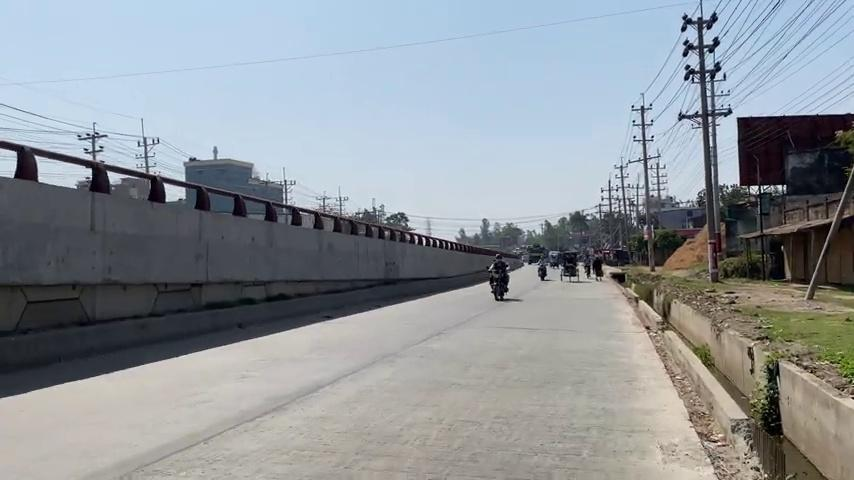Curb: (485, 265, 510, 301), (537, 263, 546, 280)
Fallen-tree: (0, 138, 429, 371)
Garbage: (679, 1, 730, 282), (803, 168, 853, 300)
Garbage-bin: (680, 334, 854, 480)
